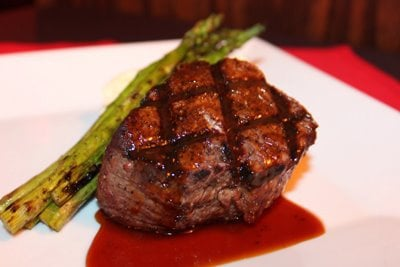soup: (0, 11, 323, 244)
